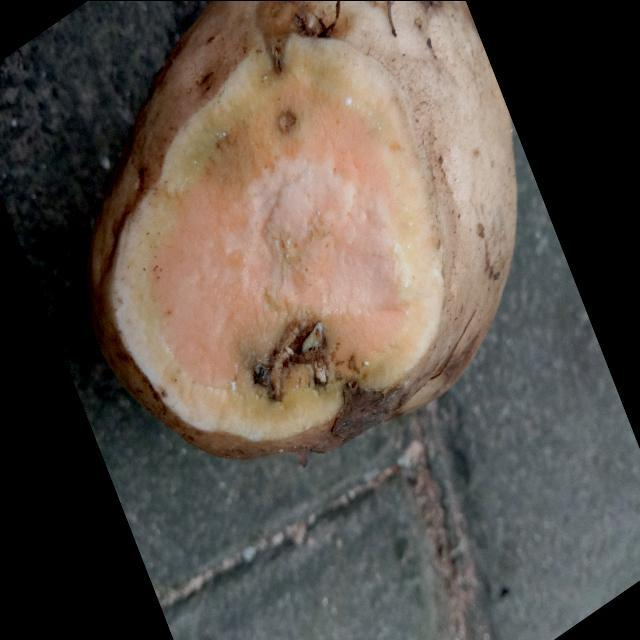Sick Sweet Potato_Tuber Rot: (110, 35, 444, 440)
